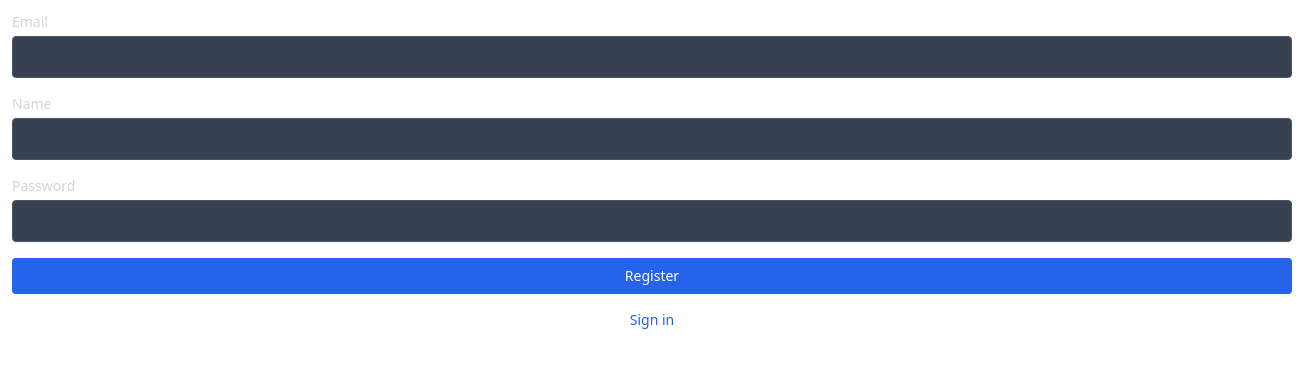
Test: RegisterForm › shows error message on registration failure
Type "bob@test.com" into the field labelled "Email".
click(652, 57); type("bob@test.com")  # box top-left (12, 36), bottom-right (1292, 78)
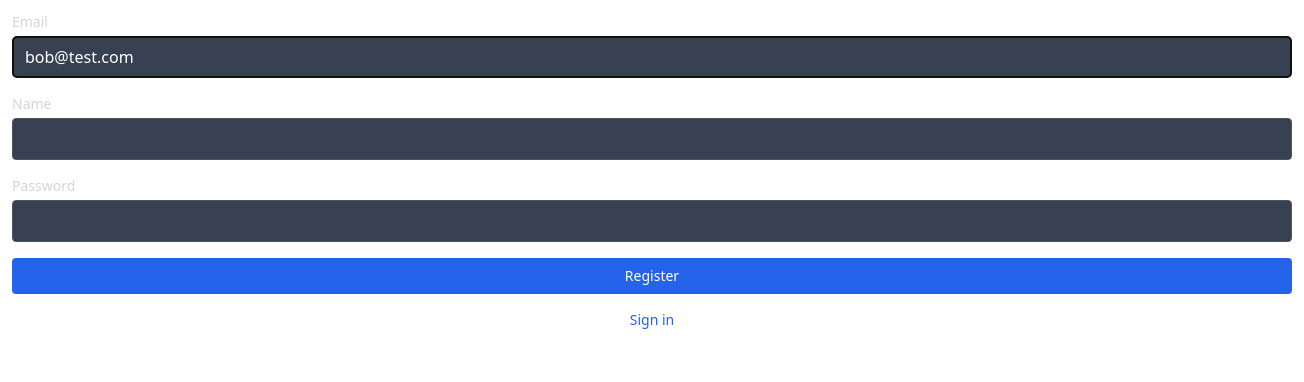
Type "Bob" into the field labelled "Name".
click(652, 139); type("Bob")  # box top-left (12, 118), bottom-right (1292, 160)
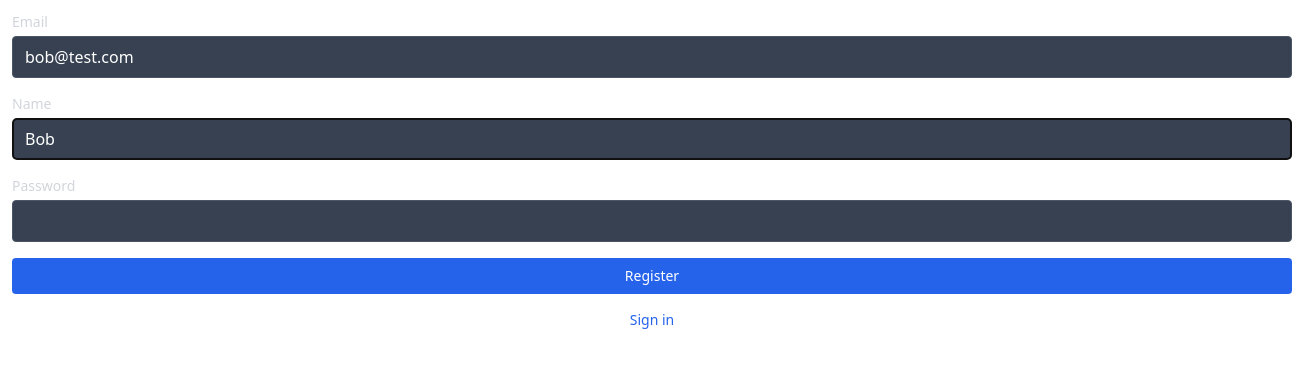
Type "secret123" into the password field labelled "Password".
click(652, 221); type("secret123")  # box top-left (12, 200), bottom-right (1292, 242)
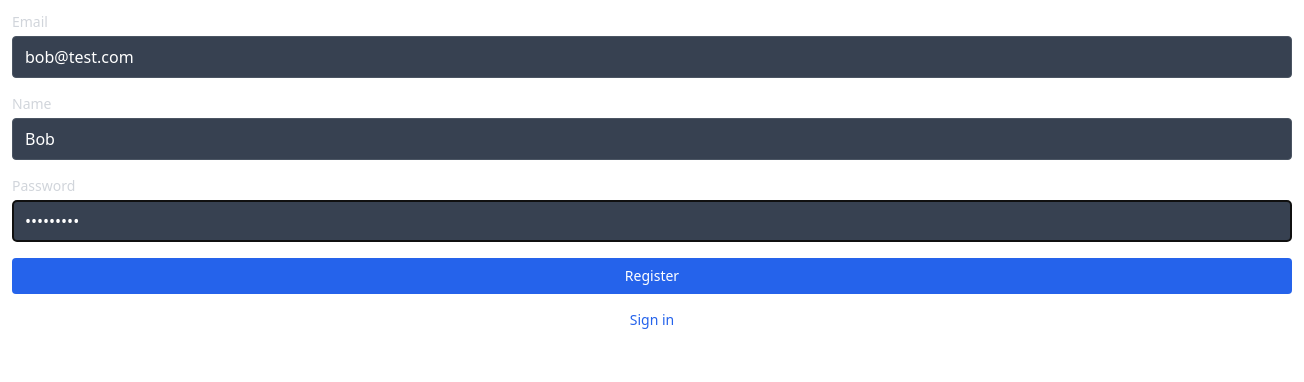
Click the button "Register".
click(652, 276)  # box top-left (12, 258), bottom-right (1292, 294)
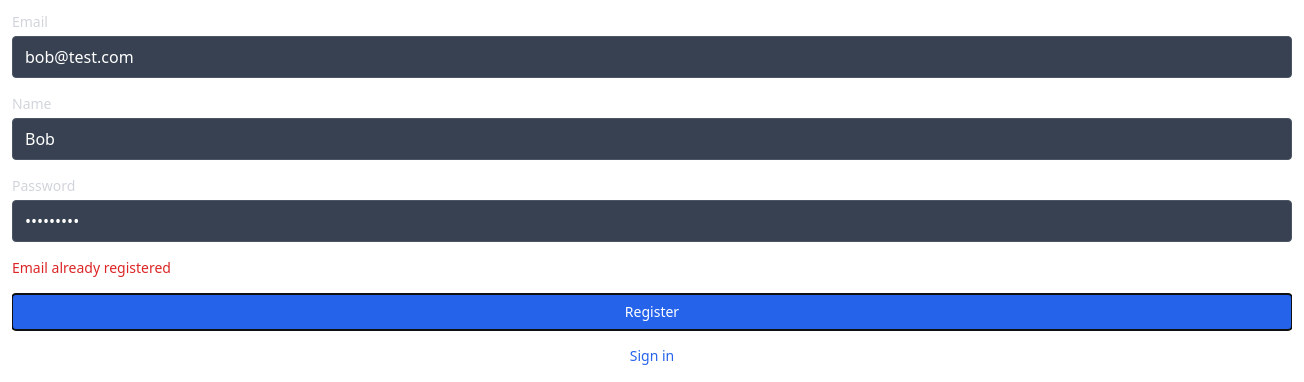
Check: the text "Email already registered" is shown, box top-left (12, 258), bottom-right (171, 277)
